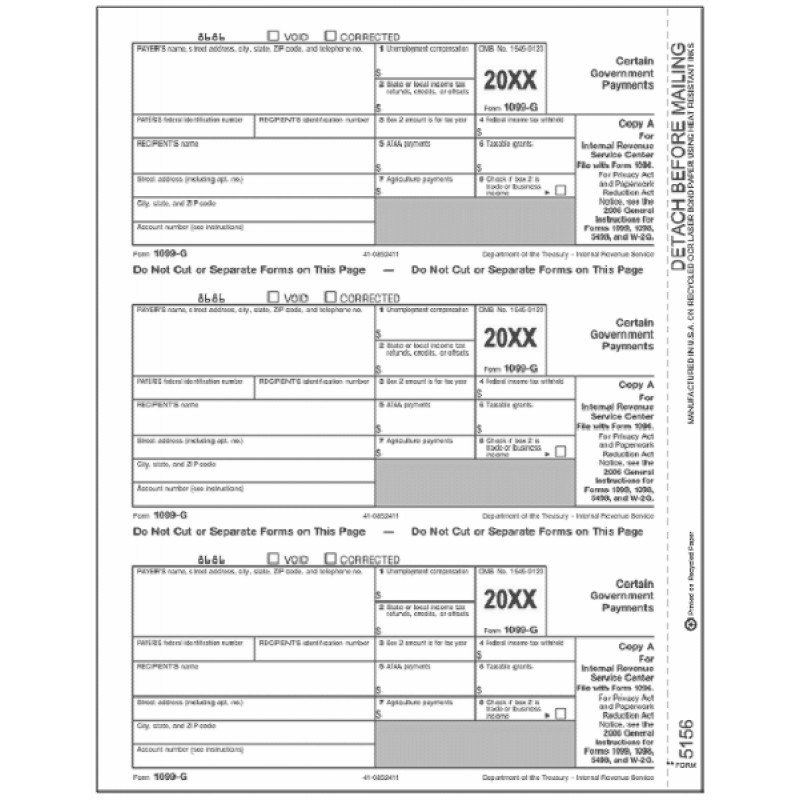checkbox: (265, 549, 283, 568), (321, 549, 339, 568), (264, 286, 282, 305), (321, 286, 339, 305), (552, 441, 570, 460), (552, 704, 570, 723), (552, 180, 570, 199), (264, 28, 282, 42), (322, 28, 338, 43)
textbox: (130, 41, 378, 118), (130, 302, 378, 379), (130, 564, 378, 641), (128, 396, 378, 440), (129, 657, 379, 701), (129, 133, 379, 177), (128, 169, 377, 200), (129, 193, 378, 224), (130, 216, 379, 247), (130, 430, 379, 461), (130, 456, 379, 487), (129, 479, 378, 510), (129, 692, 378, 723), (130, 716, 379, 747), (128, 740, 377, 771), (371, 338, 481, 382), (370, 300, 480, 344), (371, 38, 481, 82), (370, 74, 480, 118), (370, 134, 480, 178), (469, 134, 579, 178), (372, 597, 479, 642), (371, 657, 480, 701), (372, 395, 480, 439), (469, 396, 579, 438), (469, 655, 579, 697), (373, 563, 479, 606), (128, 111, 257, 140), (250, 111, 379, 140), (130, 372, 259, 401), (251, 373, 380, 402), (129, 634, 258, 663), (248, 635, 377, 664), (370, 371, 478, 404), (471, 370, 579, 403), (371, 108, 479, 141), (471, 108, 579, 141), (370, 633, 478, 665), (372, 429, 479, 461), (372, 169, 479, 201), (371, 692, 480, 723), (472, 633, 578, 664)
